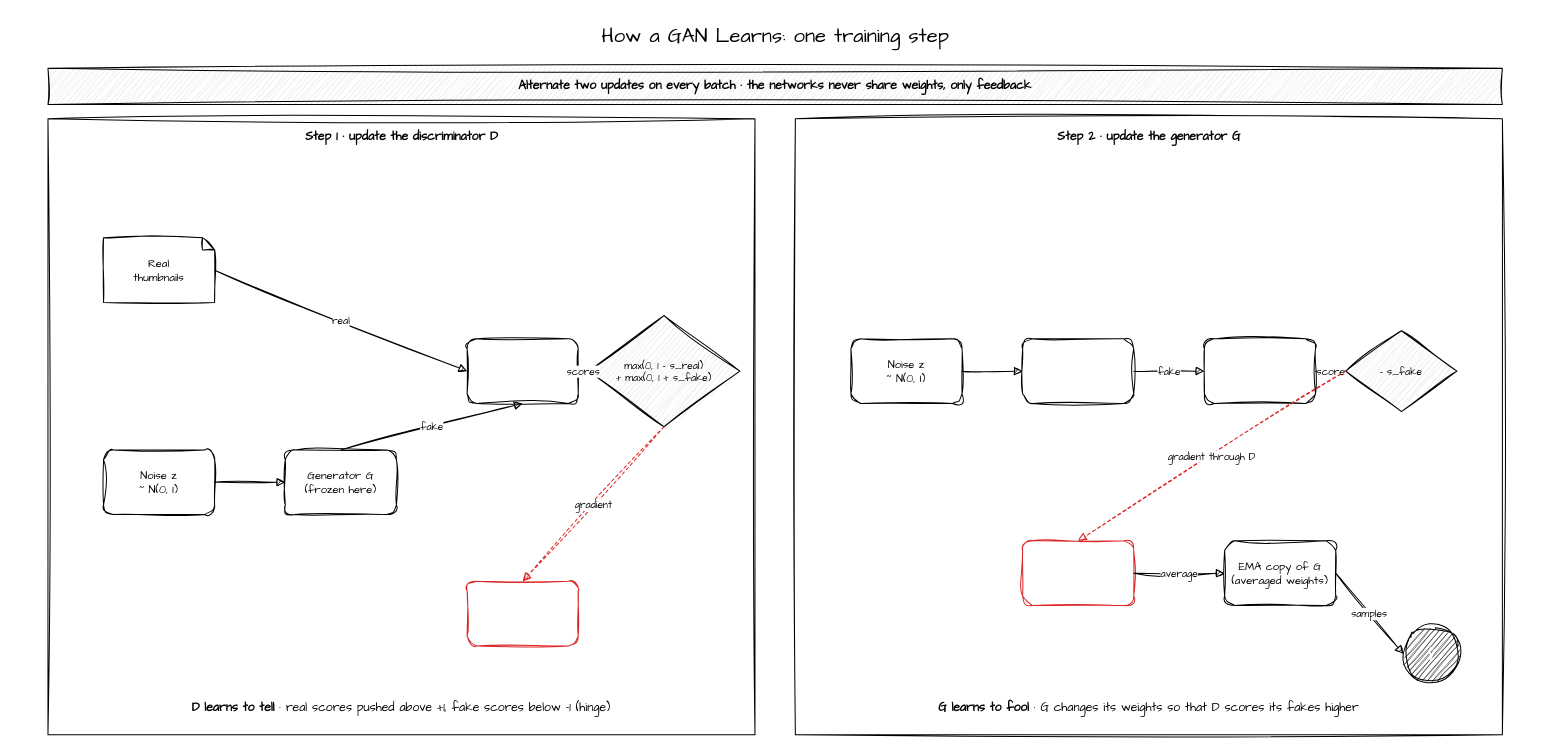
The diagram is 1549 pixels wide and 752 high, and some of its shapes have lost their labels. The shapes that lost their labels are listed below. From the top down, each one's centre as x and y in pixels, then its label:
At (x=522, y=370): "Discriminator D".
At (x=1078, y=370): "Generator G".
At (x=1259, y=370): "Discriminator D (frozen here)".
At (x=1078, y=572): "update G (lr 1e-4)".
At (x=522, y=613): "update D (lr 4e-4)".
